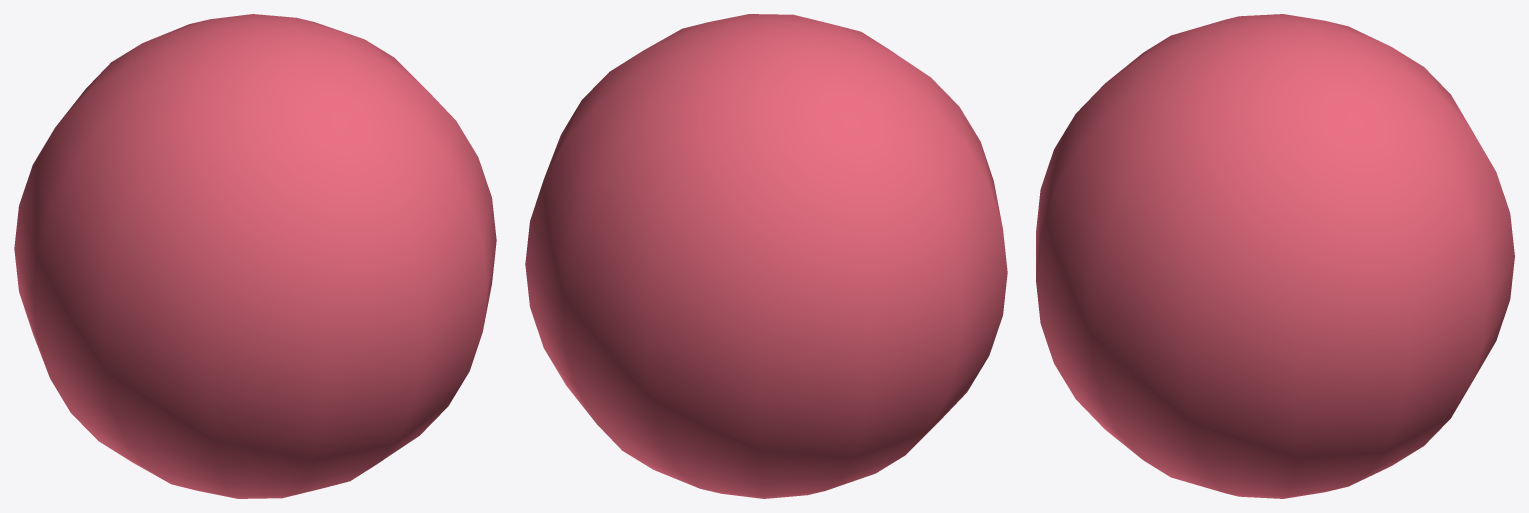
File: Shar.fbx
3 views of the same model, side by side, from view 1: azimuth 30°, elevation 25°; view 2: azimuth 150°, elevation 25°; view 3: azimuth 270°, elevation 25° (orthographic).
Parts seen in each view (by area): view 1: Sphere; view 2: Sphere; view 3: Sphere.
Part boxes in pixels (<box>): Sphere: <box>14,14,496,498</box>; Sphere: <box>525,14,1007,498</box>; Sphere: <box>1036,14,1514,498</box>.
Bounding box in the file's own units: 351 × 353 × 348.
